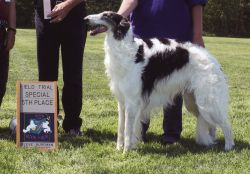borzoi: (83, 10, 237, 153)
